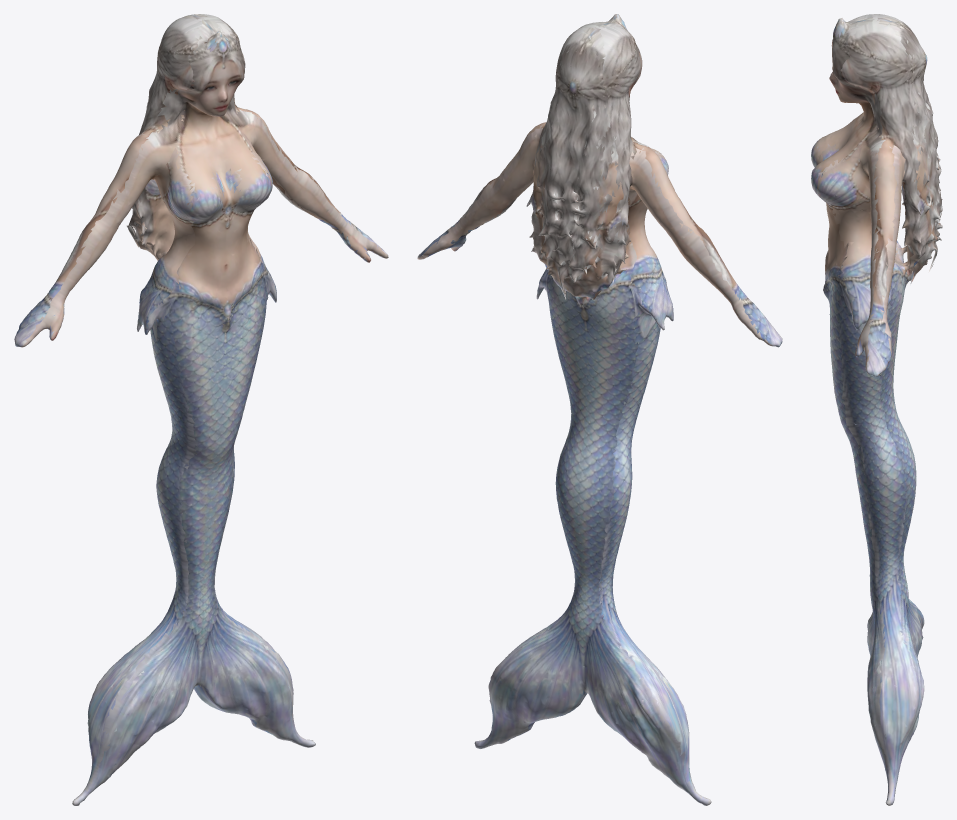
The model's file is mermaid3d.glb.
The picture shows the model from 3 angles, left to right: view 1: azimuth 30°, elevation 25°; view 2: azimuth 150°, elevation 25°; view 3: azimuth 270°, elevation 25°; orthographic projection. The views are drawn at different scales.
Visible parts, largest first — view 1: geometry_0; view 2: geometry_0; view 3: geometry_0.
Part boxes in pixels (x1,y1,x2,y2): geometry_0: [14, 14, 388, 805]; geometry_0: [417, 14, 782, 805]; geometry_0: [811, 14, 942, 805].
Bounding box in the file's own units: 0.9937 × 1.96 × 0.318.
Materials: 1 (1 with a texture image).
